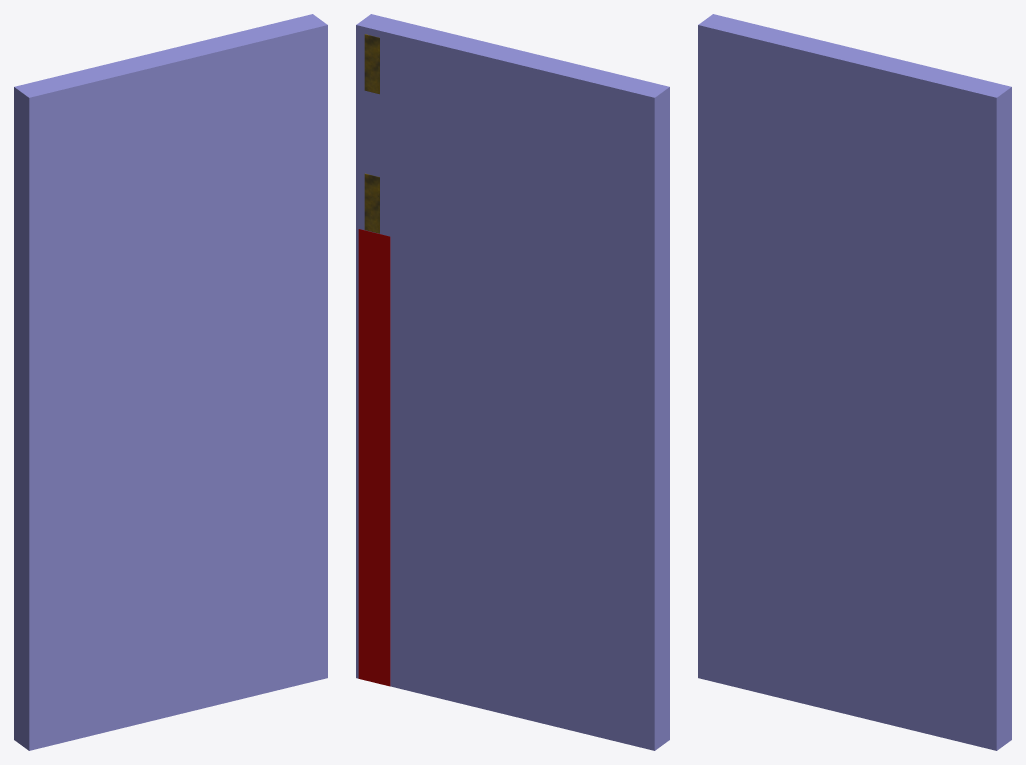
File: SciFi_walkway_02_rail_short.DAE
The picture shows the model from 3 angles, left to right: view 1: azimuth 30°, elevation 25°; view 2: azimuth 150°, elevation 25°; view 3: azimuth 330°, elevation 25°; orthographic projection.
Visible parts, largest first — view 1: bounds; view 2: bounds, colbox-01, walkway_two_rail_short; view 3: bounds.
Boxes of the visible parts, x1,y1,x2,y2 form: bounds: [14, 14, 327, 750]; bounds: [356, 14, 669, 750]; colbox-01: [358, 229, 390, 686]; walkway_two_rail_short: [364, 34, 379, 233]; bounds: [698, 14, 1011, 750].
Size of the model in its own units: 318 by 27.96 by 665.
